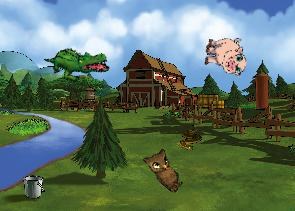crocodile: (43, 36, 111, 90)
owl: (139, 143, 192, 194)
pig: (202, 34, 248, 77)
